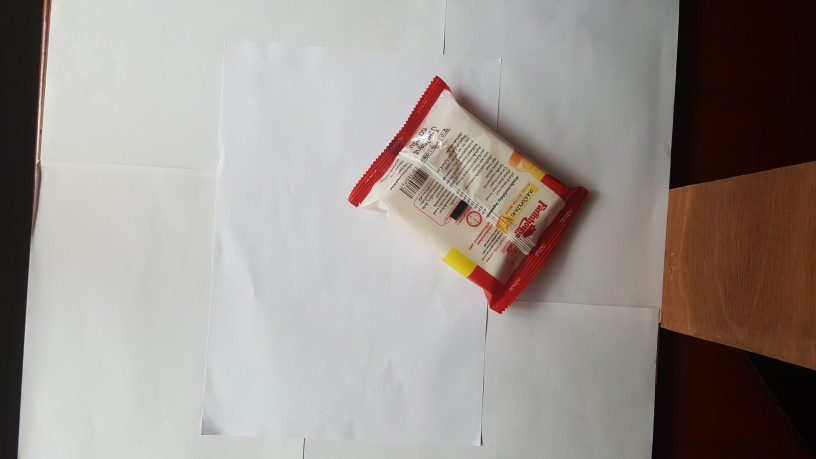farmhouse-bread-butter: (333, 65, 599, 324)
